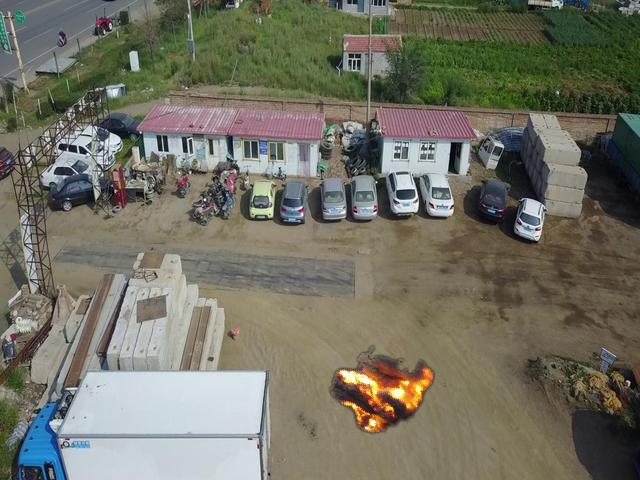fire: (327, 344, 436, 435)
